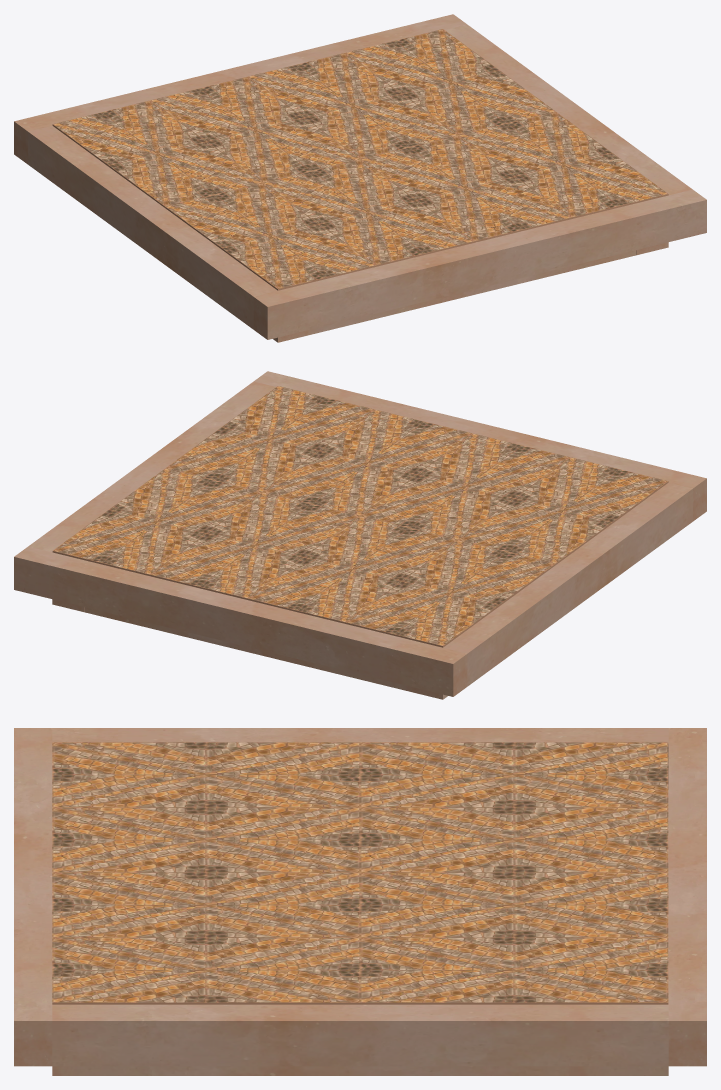
3 views of the same model, one above another, from view 1: azimuth 30°, elevation 25°; view 2: azimuth 150°, elevation 25°; view 3: azimuth 270°, elevation 25° (orthographic). The views are drawn at different scales.
Parts seen in each view (by area): view 1: SM_BB_T4_Floor_Large_02_LOD0; view 2: SM_BB_T4_Floor_Large_02_LOD0; view 3: SM_BB_T4_Floor_Large_02_LOD0.
Part boxes in pixels (x1,y1,x2,y2): SM_BB_T4_Floor_Large_02_LOD0: [14, 14, 706, 342]; SM_BB_T4_Floor_Large_02_LOD0: [14, 371, 706, 699]; SM_BB_T4_Floor_Large_02_LOD0: [14, 728, 706, 1075].
Size of the model in its own units: 3.38 by 0.3933 by 3.38.
Materials: 2 (2 with a texture image).
